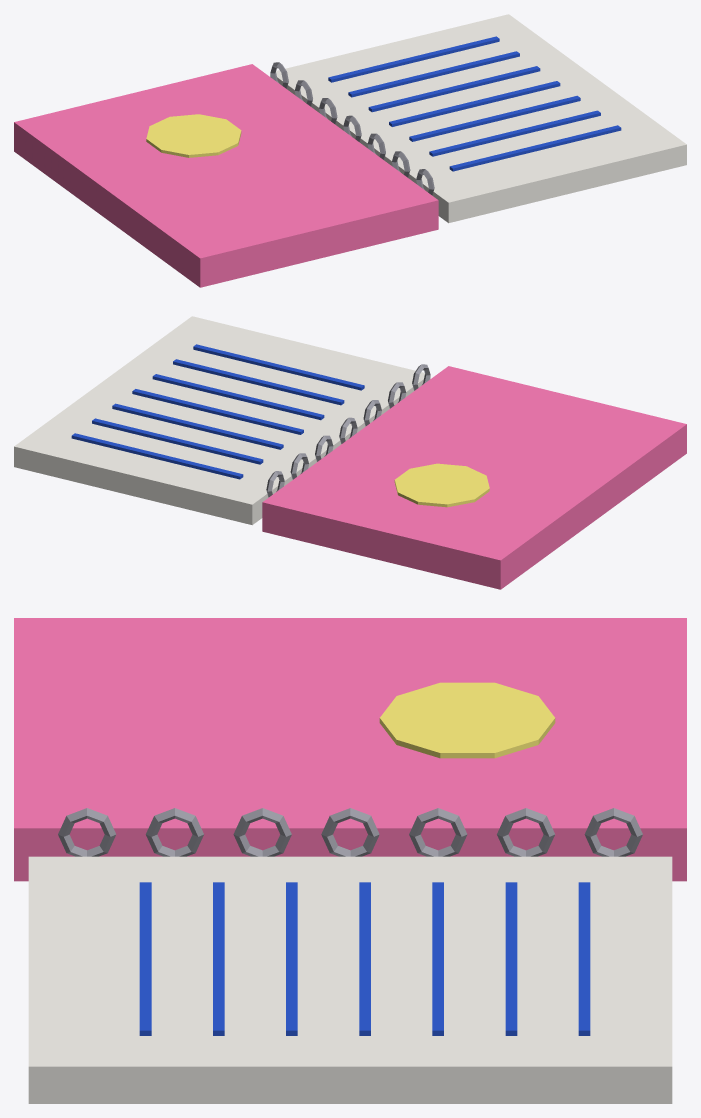
File: resale_notebook.glb
3 views of the same model, one above another, from view 1: azimuth 30°, elevation 25°; view 2: azimuth 150°, elevation 25°; view 3: azimuth 270°, elevation 25° (orthographic). The views are drawn at different scales.
Visible parts, largest first — view 1: cover_resale_cover, page_white, prices_resale_ink (×7), sticker_resale_sticker; view 2: cover_resale_cover, page_white, prices_resale_ink (×7), sticker_resale_sticker; view 3: page_white, cover_resale_cover, prices_resale_ink (×7), sticker_resale_sticker, spiral_resale_spiral (×7).
Boxes of the visible parts, left/top/right/bottom form: cover_resale_cover: left=14, top=64, right=438, bottom=287; page_white: left=270, top=14, right=686, bottom=223; prices_resale_ink (×7): left=328, top=36, right=621, bottom=171; sticker_resale_sticker: left=146, top=114, right=241, bottom=157; cover_resale_cover: left=262, top=366, right=686, bottom=589; page_white: left=14, top=316, right=430, bottom=525; prices_resale_ink (×7): left=71, top=344, right=364, bottom=479; sticker_resale_sticker: left=394, top=463, right=489, bottom=507; page_white: left=28, top=856, right=672, bottom=1103; cover_resale_cover: left=14, top=618, right=686, bottom=881; prices_resale_ink (×7): left=139, top=882, right=590, bottom=1035; sticker_resale_sticker: left=379, top=682, right=555, bottom=758; spiral_resale_spiral (×7): left=58, top=808, right=642, bottom=856.
Size of the model in its own units: 0.35 by 0.03 by 0.23.
